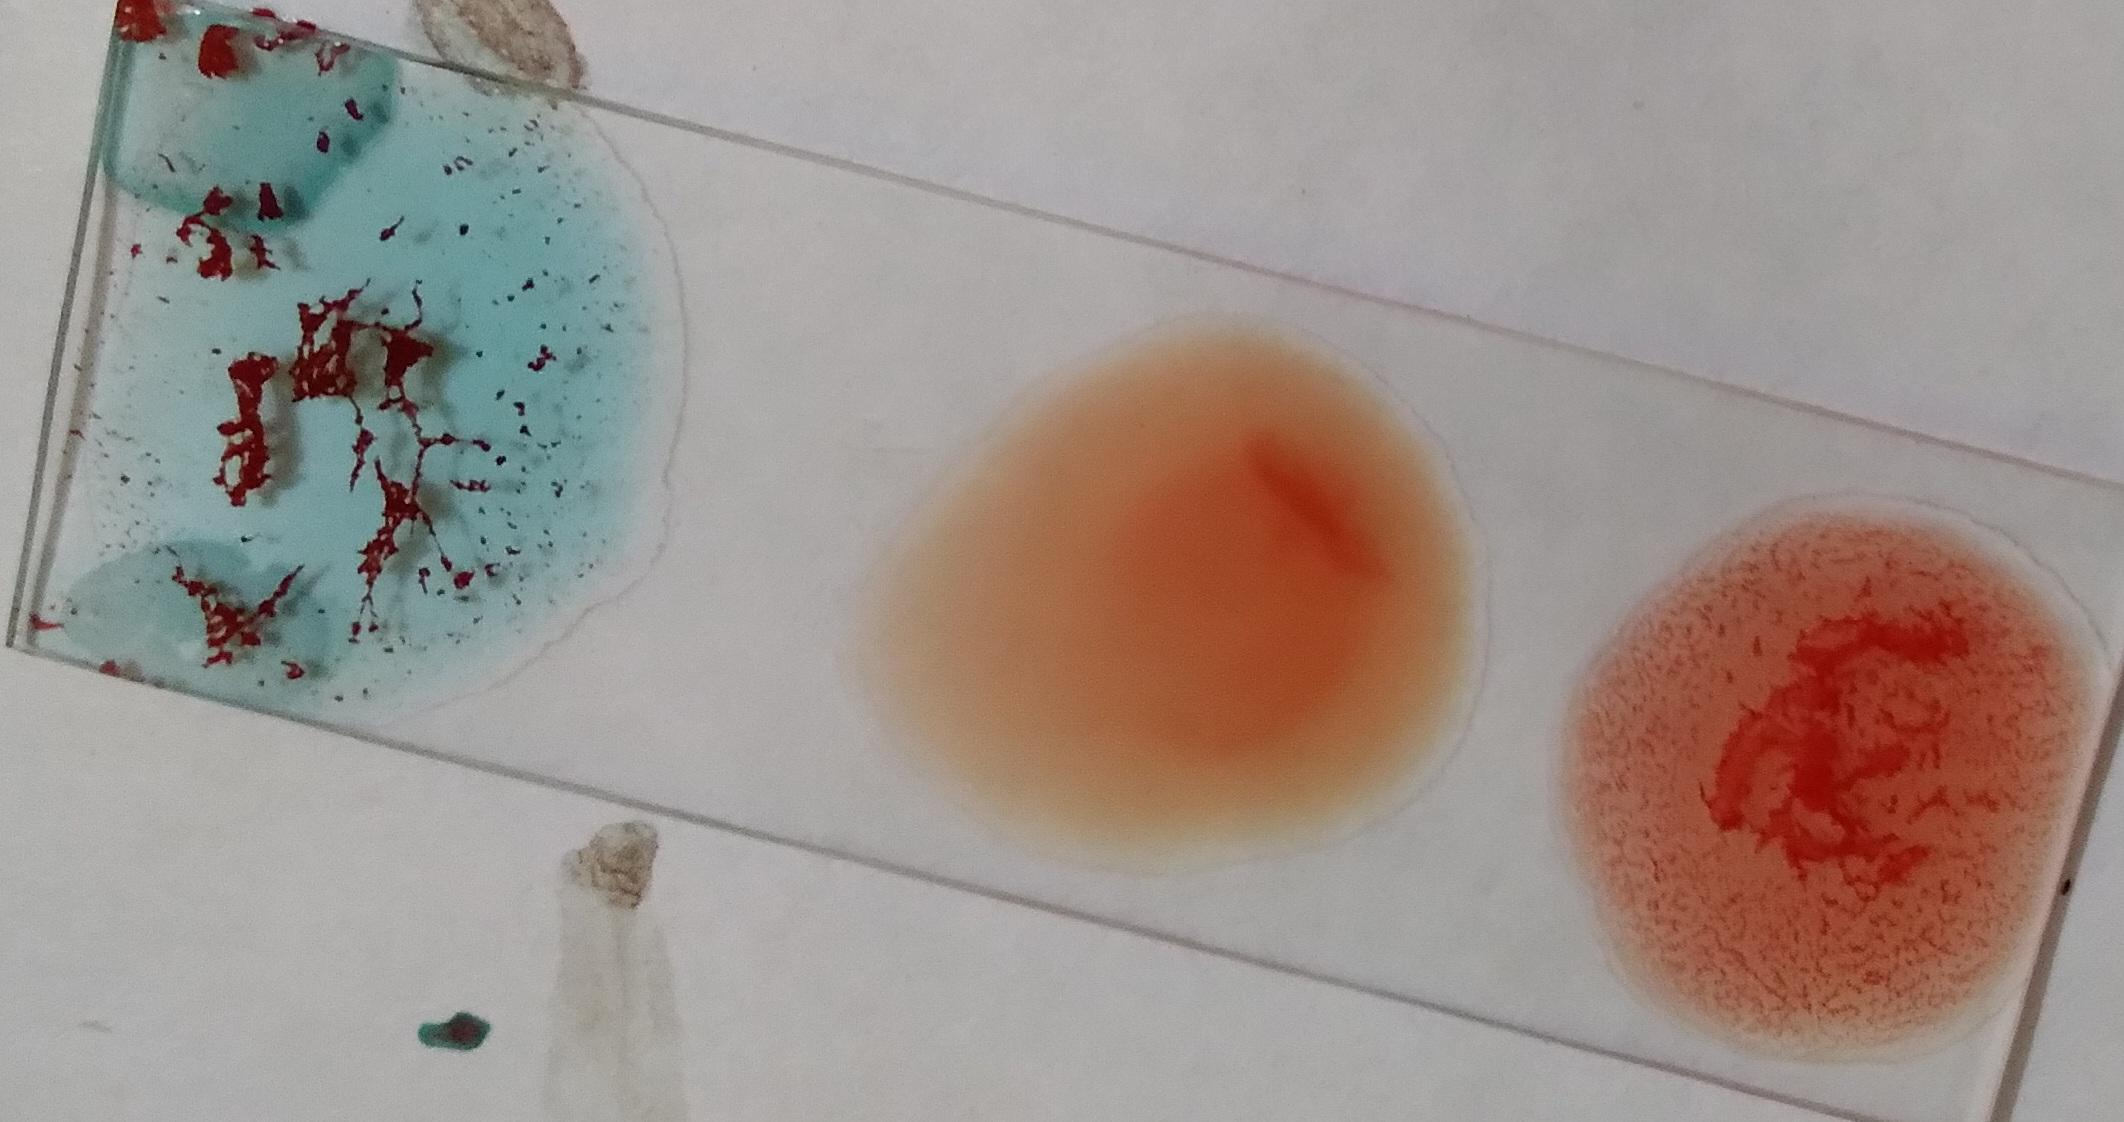A: (98, 88, 629, 692)
D: (1599, 493, 2037, 1024)
